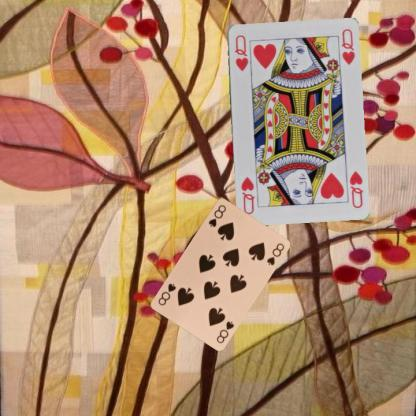8s: (206, 202, 227, 228), (214, 318, 235, 344)
Qh: (231, 32, 250, 72), (347, 168, 364, 209)
